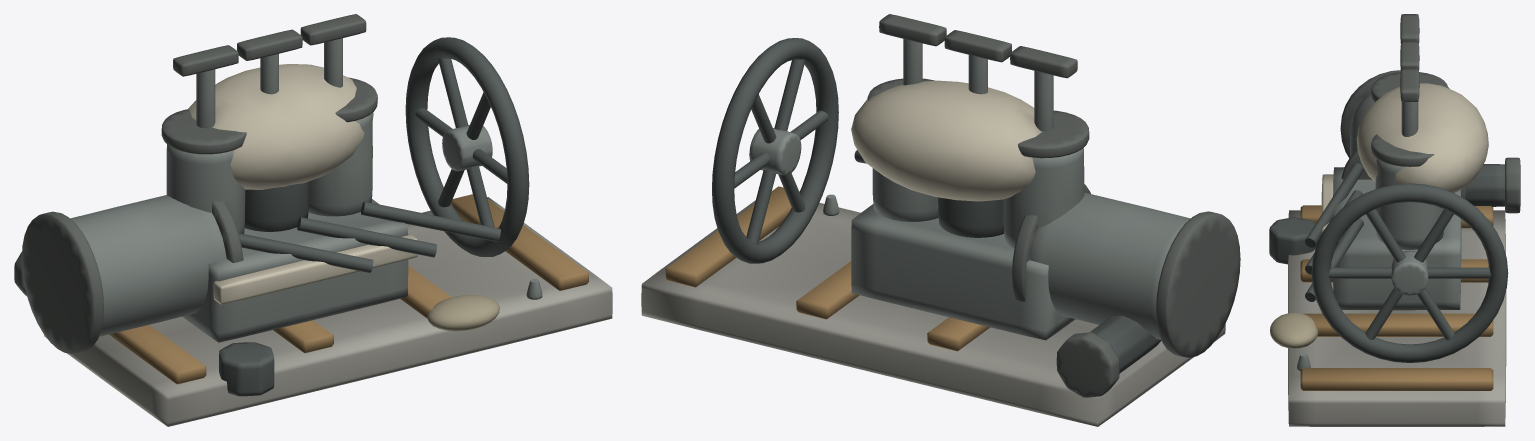
Rendered from pump_engine_a.glb.
3 views of the same model, side by side, from view 1: azimuth 30°, elevation 25°; view 2: azimuth 150°, elevation 25°; view 3: azimuth 270°, elevation 25° (orthographic). The views are drawn at different scales.
Visible parts, largest first — view 1: Surface; view 2: Surface; view 3: Surface.
Part boxes in pixels (x1=…): Surface: x1=14, y1=14, x2=612, y2=426; Surface: x1=641, y1=14, x2=1240, y2=426; Surface: x1=1269, y1=14, x2=1520, y2=426.
Size of the model in its own units: 7.7 by 4.45 by 3.91.
